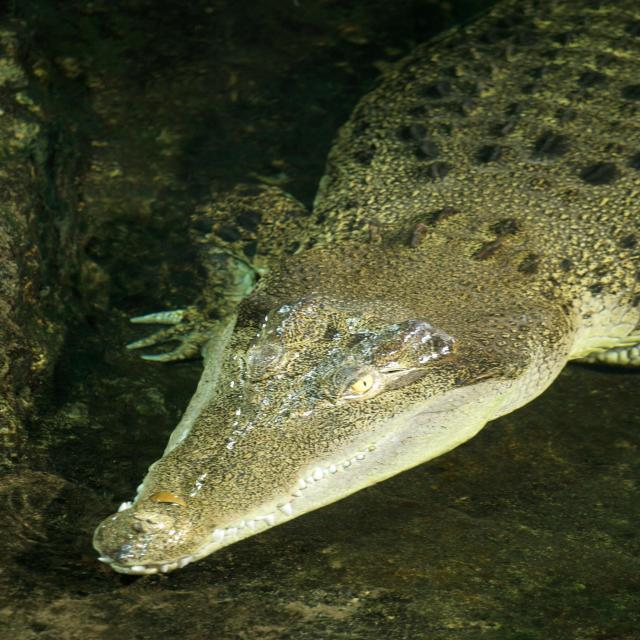crocodile: (89, 0, 640, 573)
